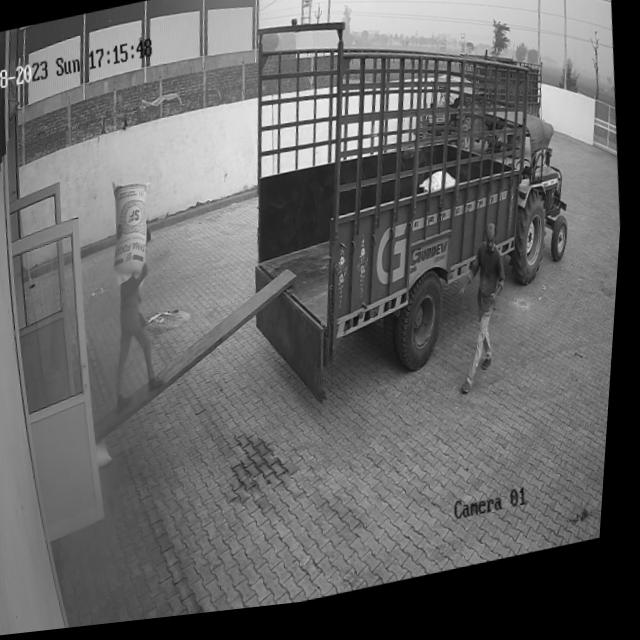sack: (106, 175, 161, 288)
